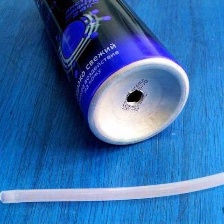aerosol_cans: (23, 0, 195, 150)
